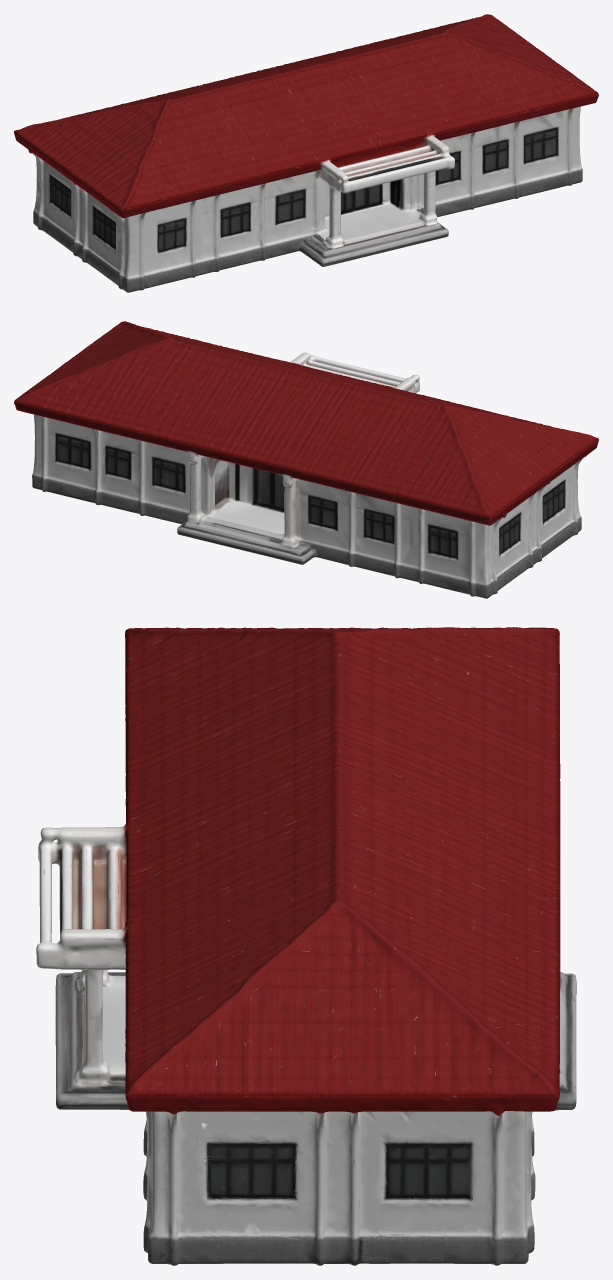
Rendered from puskesmas.optimized.glb.
The picture shows the model from 3 angles, top to bottom: view 1: azimuth 30°, elevation 25°; view 2: azimuth 150°, elevation 25°; view 3: azimuth 270°, elevation 25°; orthographic projection. The views are drawn at different scales.
Visible parts, largest first — view 1: geometry_0; view 2: geometry_0; view 3: geometry_0.
Boxes of the visible parts, x1,y1,x2,y2 form: geometry_0: [14, 14, 598, 292]; geometry_0: [14, 321, 598, 598]; geometry_0: [36, 627, 576, 1265].
Size of the model in its own units: 1 by 0.2749 by 0.4881.
Materials: 1 (1 with a texture image).
